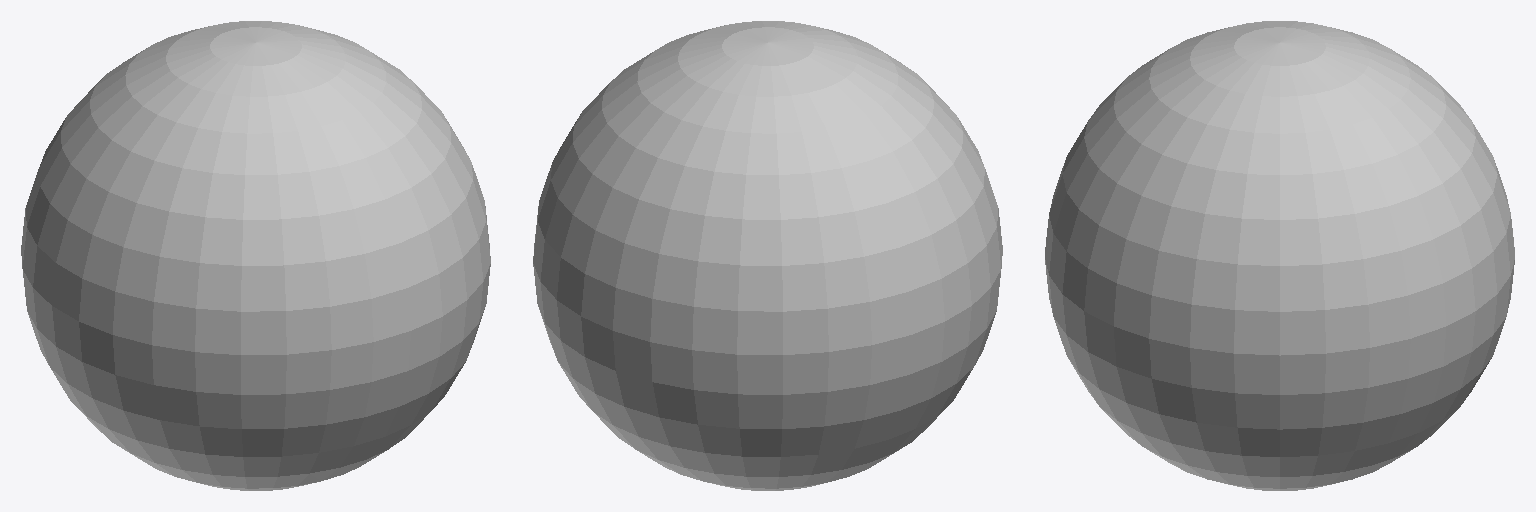
The model's file is simplesphere.obj.
The picture shows the model from 3 angles: view 1: azimuth 30°, elevation 25°; view 2: azimuth 150°, elevation 25°; view 3: azimuth 270°, elevation 25°; orthographic projection.
Visible parts, largest first — view 1: Sphere; view 2: Sphere; view 3: Sphere.
Boxes of the visible parts, <box> form: Sphere: <box>21,21,490,490</box>; Sphere: <box>533,21,1002,490</box>; Sphere: <box>1045,21,1514,490</box>.
Size of the model in its own units: 8.8 by 8.8 by 8.8.